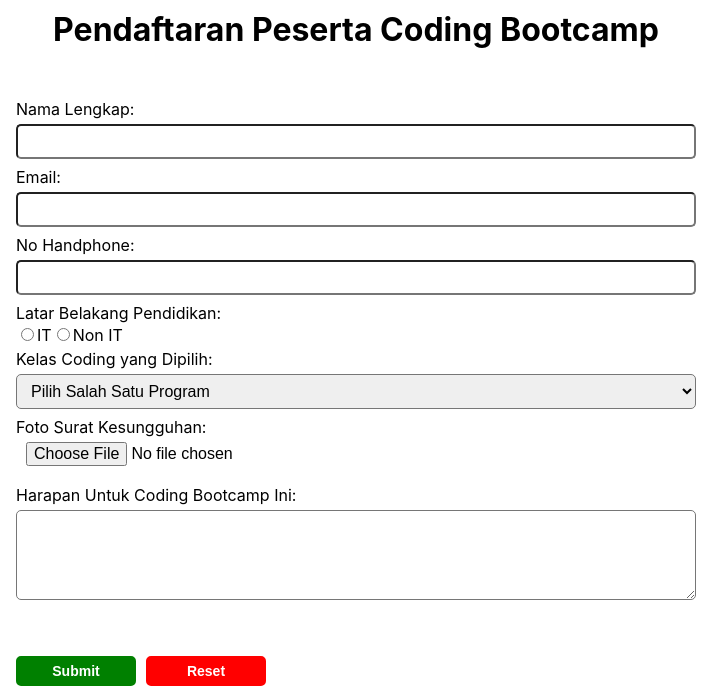
Test: NameForm › when typing wrong when inputting data
Type "4ffan Ha1dar 4tstsabit" into the field labelled "Nama Lengkap:" at (356, 142), box [16,124,696,159]
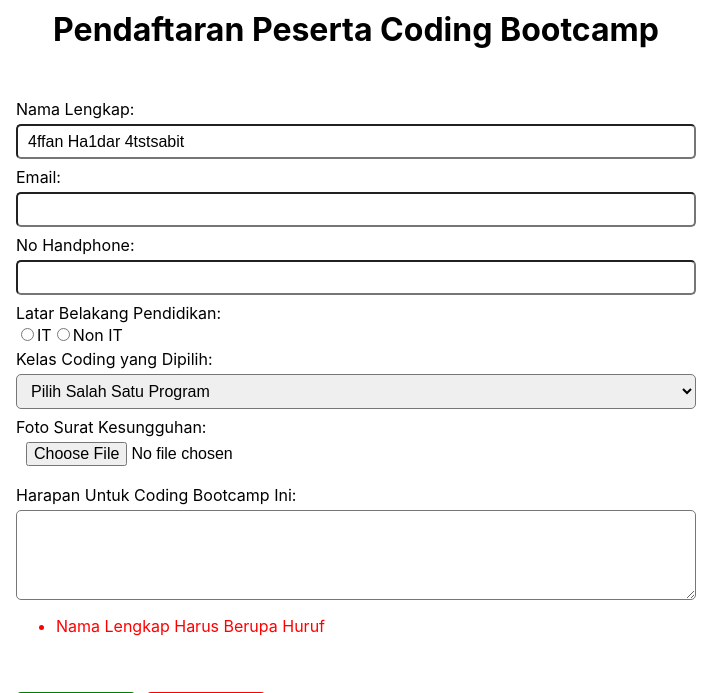
Type "emailnyasalah#gmail.com" into the field labelled "Email:" at (356, 210), box [16,192,696,227]
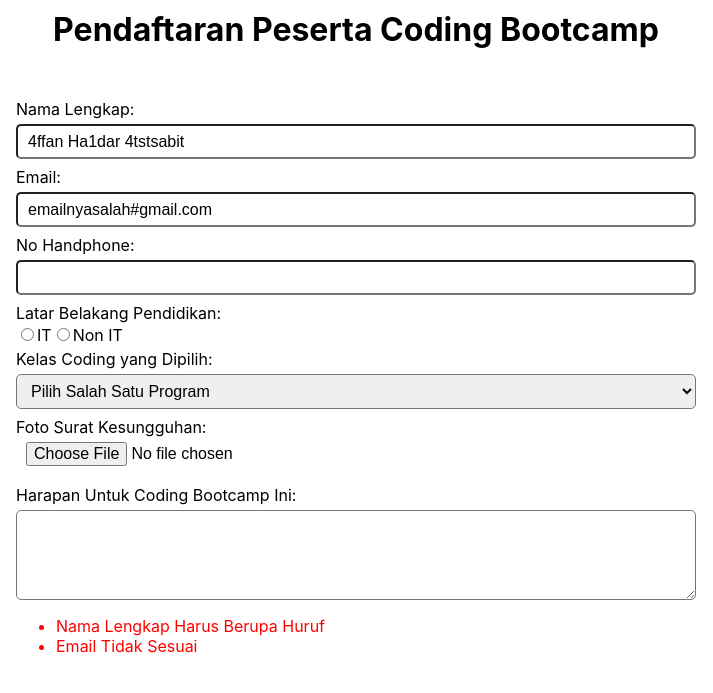
Type "35235" into the number field labelled "No Handphone:" at (356, 278), box [16,260,696,295]
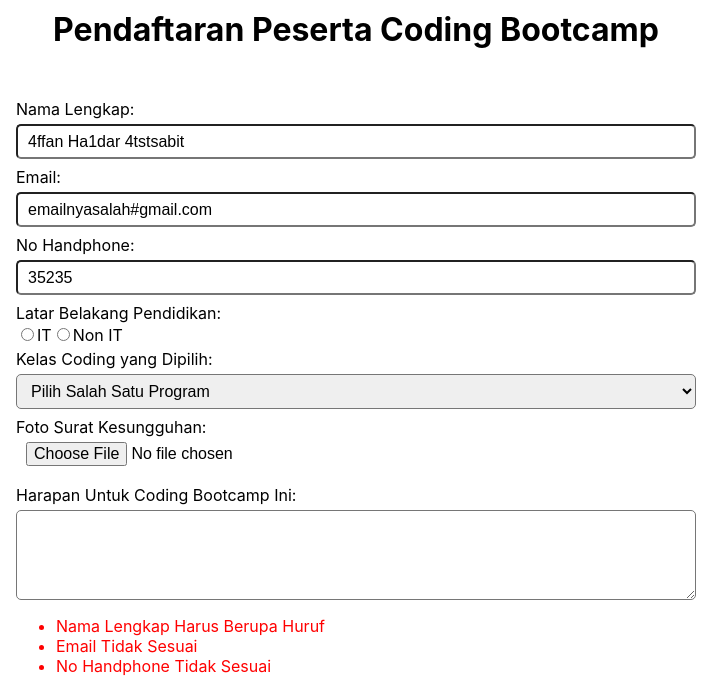
expect the list item "Nama Lengkap Harus Berupa Huruf" is shown: met, box [56,616,325,636]
expect the list item "Email Tidak Sesuai" is shown: met, box [56,636,198,656]
expect the list item "No Handphone Tidak Sesuai" is shown: met, box [56,656,271,676]
